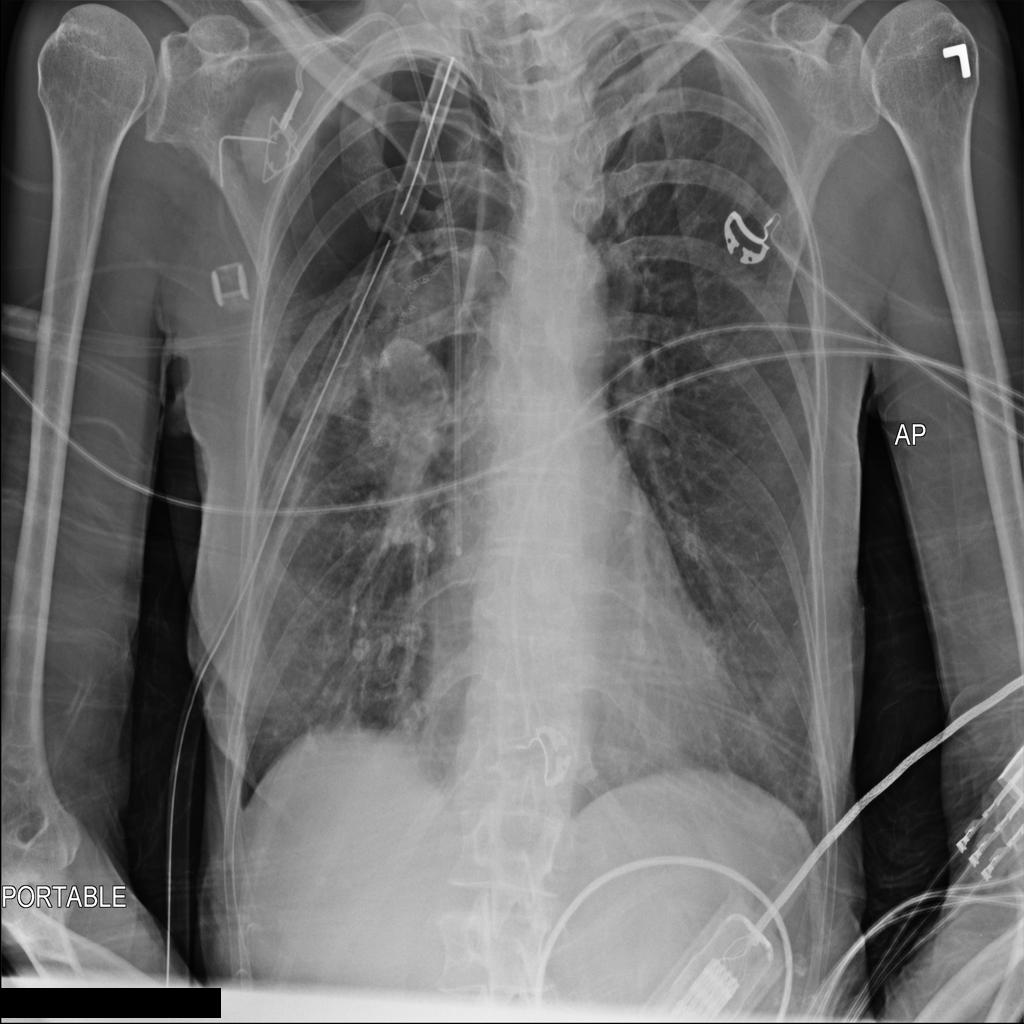nodule: (617, 617, 663, 670)
